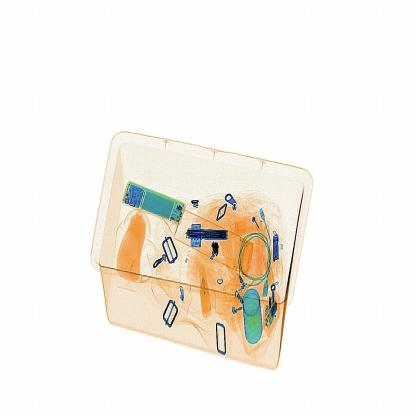scissors: (184, 217, 232, 251)
